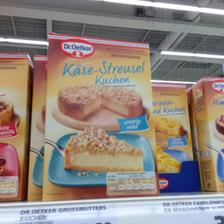Kuchen: (44, 29, 156, 204)
